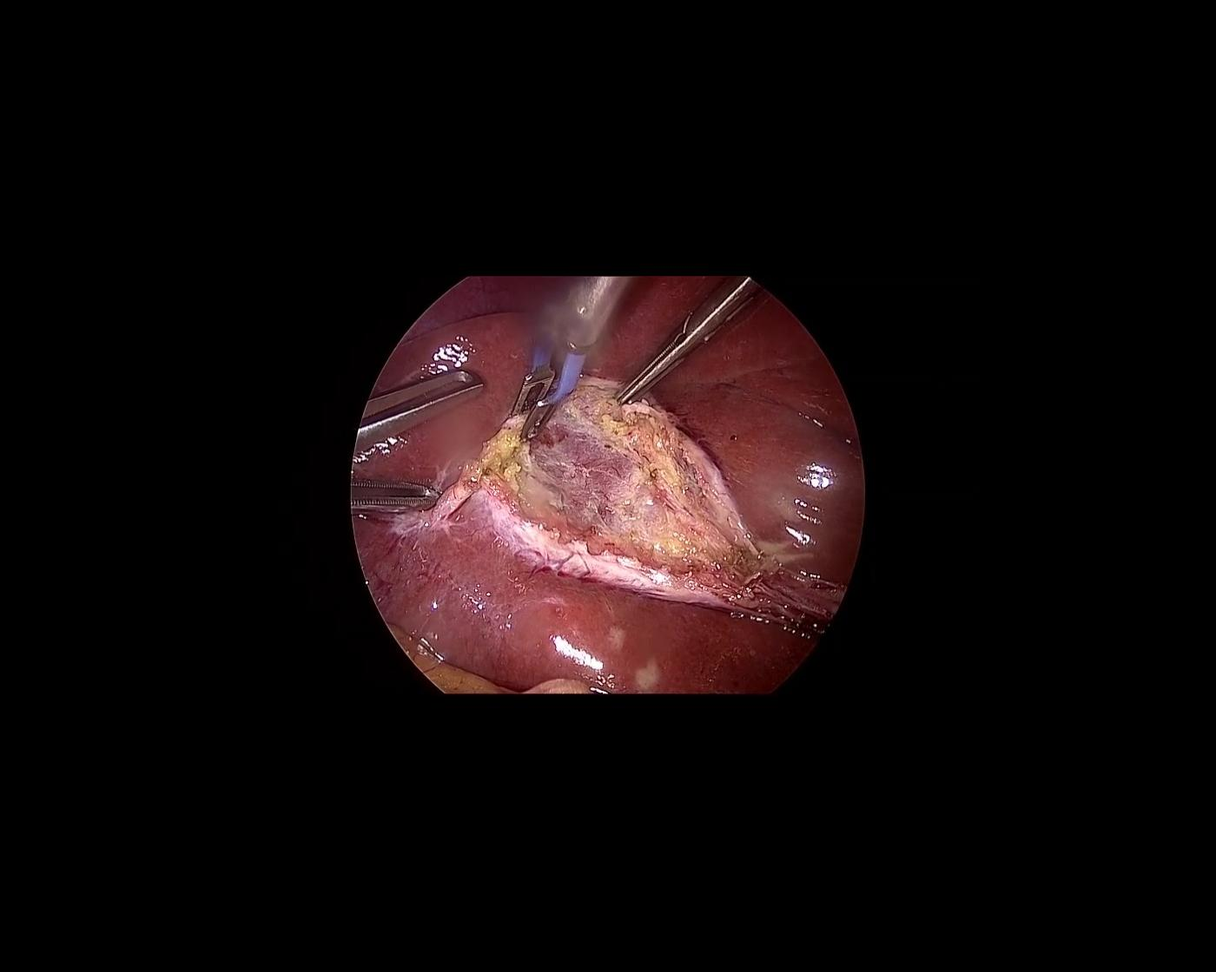Forceps: (487, 249, 637, 452), (599, 262, 763, 408), (333, 347, 488, 458), (352, 480, 441, 517)
Liver: (346, 273, 866, 696)
